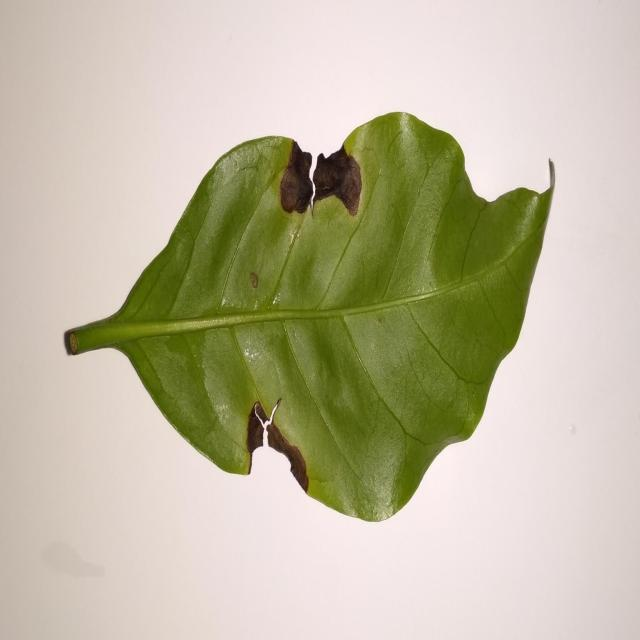Enfermedad-Antracnosis: (62, 111, 555, 526)
